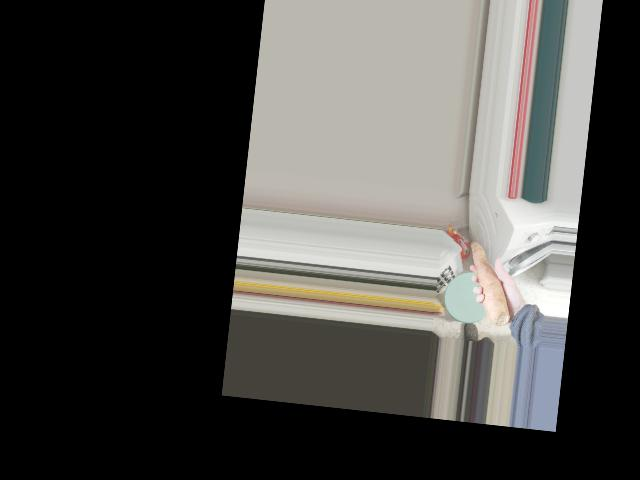sweet_potato: (458, 235, 520, 328)
